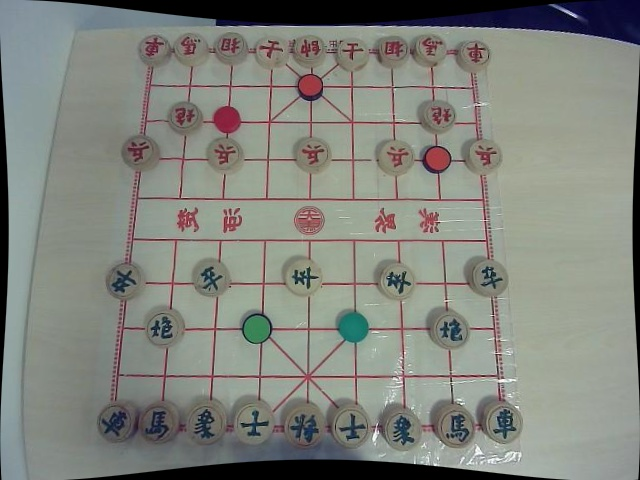Black-Cannon: (432, 312, 469, 350), (148, 309, 185, 346)
Black-Chariot: (483, 402, 522, 443), (98, 402, 136, 442)
Black-Elephant: (187, 401, 228, 446), (383, 409, 420, 450)
Black-General: (286, 403, 325, 447)
Black-Guard: (234, 401, 274, 445), (332, 404, 372, 447)
Black-Horse: (138, 402, 179, 444), (437, 404, 476, 447)
Black-Soldier: (282, 261, 325, 296), (193, 259, 231, 296), (106, 262, 142, 300), (379, 264, 415, 298), (474, 261, 508, 297)
Red-Cannon: (422, 102, 456, 135), (168, 102, 202, 134)
Red-Chariot: (456, 41, 488, 73), (138, 36, 169, 67)
Red-Elephant: (215, 33, 246, 65), (378, 37, 409, 68)
Red-General: (294, 36, 326, 67)
Red-Guard: (256, 37, 288, 69), (337, 40, 368, 72)
Red-Horse: (176, 35, 209, 67), (414, 35, 446, 67)
Red-Soldier: (377, 141, 415, 176), (207, 139, 242, 174), (122, 136, 154, 169), (296, 138, 329, 170), (469, 141, 502, 172)
